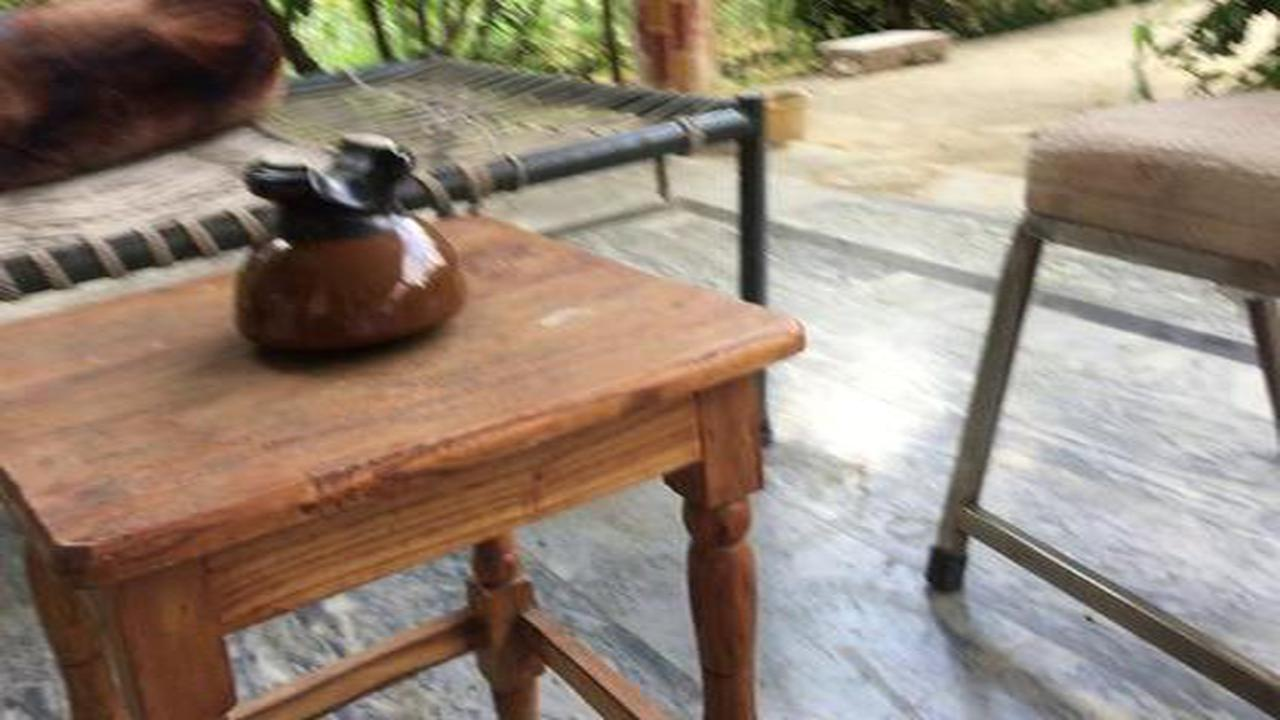insulator_pin: (213, 123, 490, 366)
